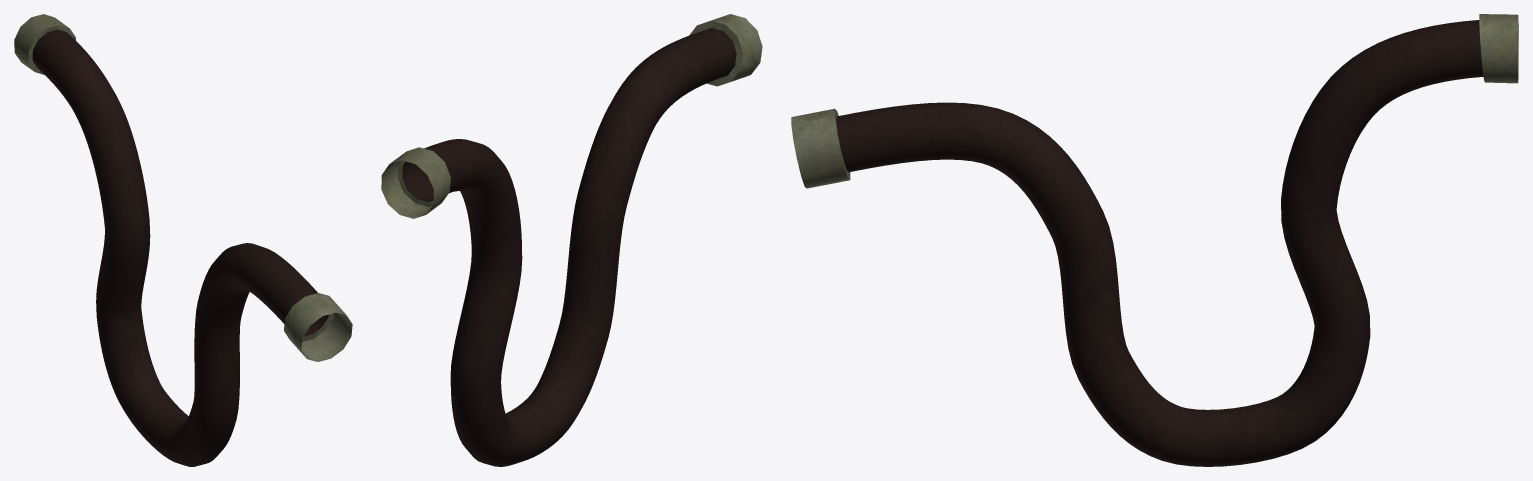
The model's file is Cable03.fbx.
3 views of the same model, side by side, from view 1: azimuth 30°, elevation 25°; view 2: azimuth 150°, elevation 25°; view 3: azimuth 270°, elevation 25° (orthographic). The views are drawn at different scales.
Visible parts, largest first — view 1: Cab03; view 2: Cab03; view 3: Cab03.
Part boxes in pixels (left/top/right/bottom): Cab03: left=14, top=14, right=352, bottom=466; Cab03: left=381, top=14, right=762, bottom=466; Cab03: left=791, top=14, right=1518, bottom=466.
Bounding box in the file's own units: 18.31 × 104 × 156.
